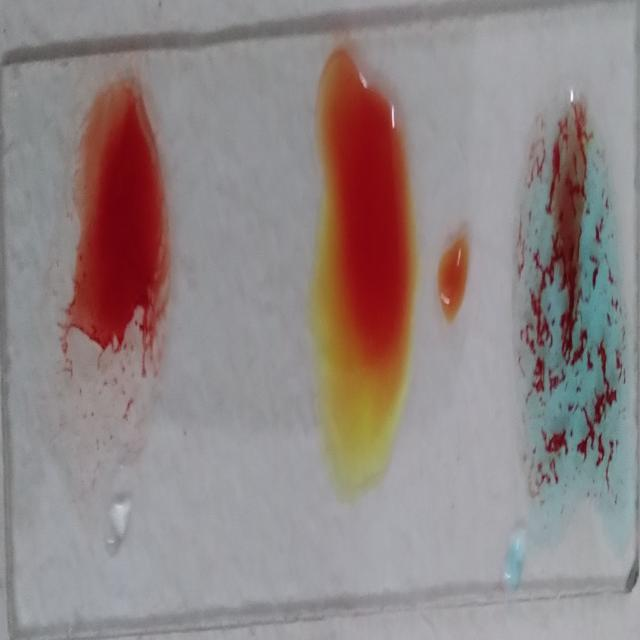A: (507, 82, 622, 500)
D: (49, 84, 180, 484)
